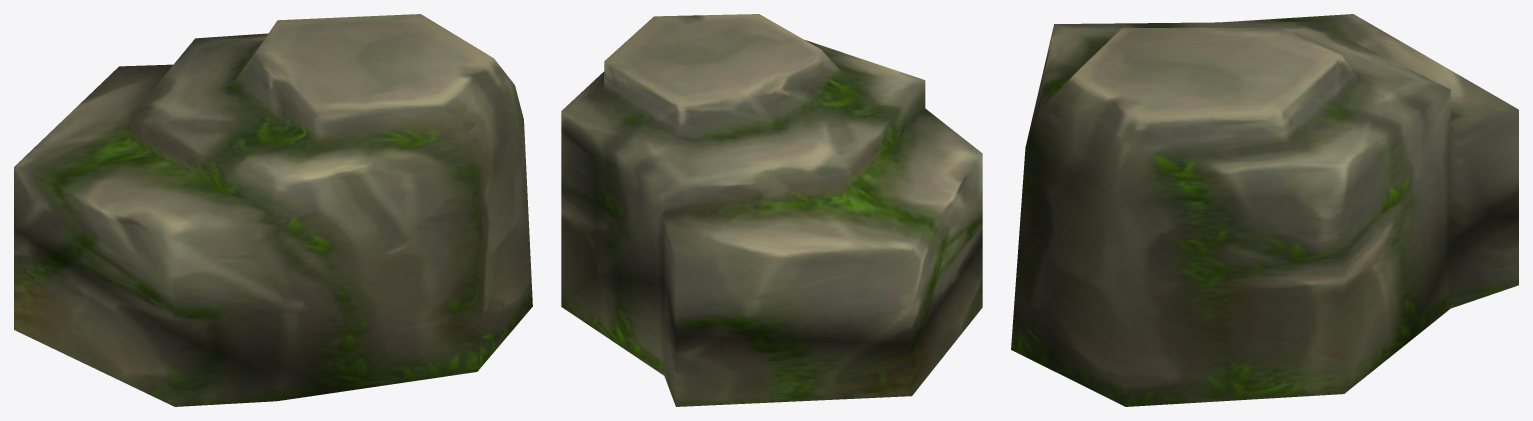
Rendered from RockFormation_4_5 (25).fbx.
The picture shows the model from 3 angles, left to right: view 1: azimuth 30°, elevation 25°; view 2: azimuth 150°, elevation 25°; view 3: azimuth 270°, elevation 25°; orthographic projection. The views are drawn at different scales.
Visible parts, largest first — view 1: RockFormation_4_5 (25); view 2: RockFormation_4_5 (25); view 3: RockFormation_4_5 (25).
Part boxes in pixels (x1,y1,x2,y2): RockFormation_4_5 (25): (14, 14, 532, 406); RockFormation_4_5 (25): (561, 14, 982, 406); RockFormation_4_5 (25): (1011, 14, 1518, 406).
Bounding box in the file's own units: 753 × 437 × 744.
